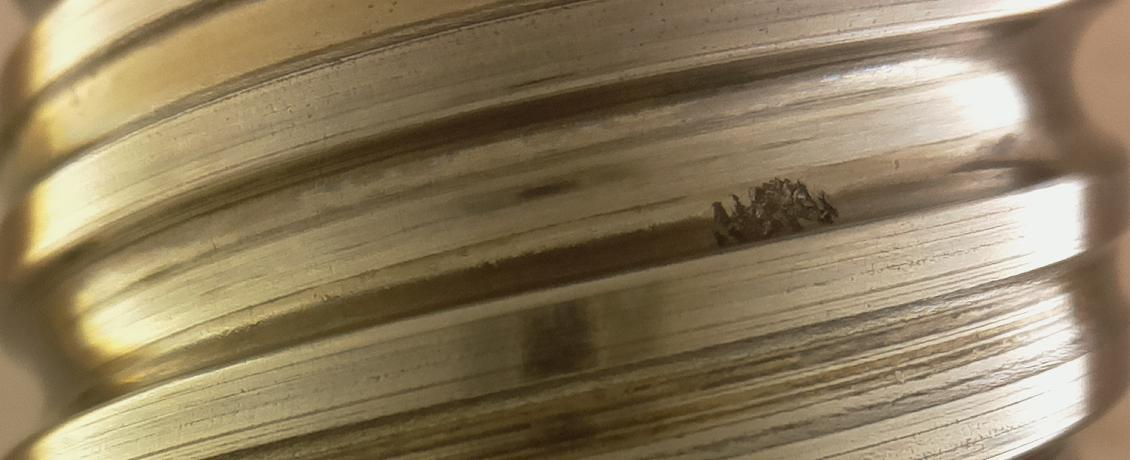pitting: (711, 176, 838, 248)
